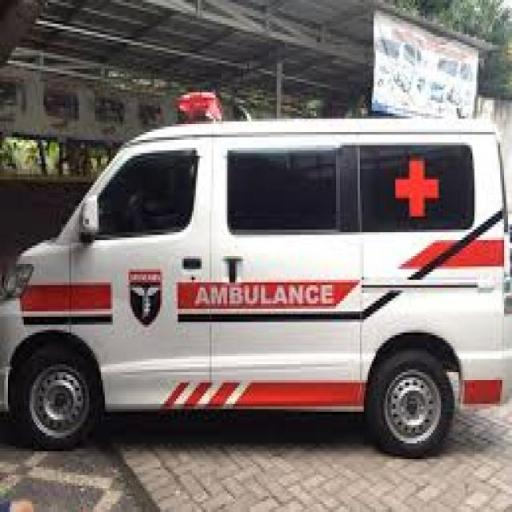Police car: (0, 92, 510, 451)
